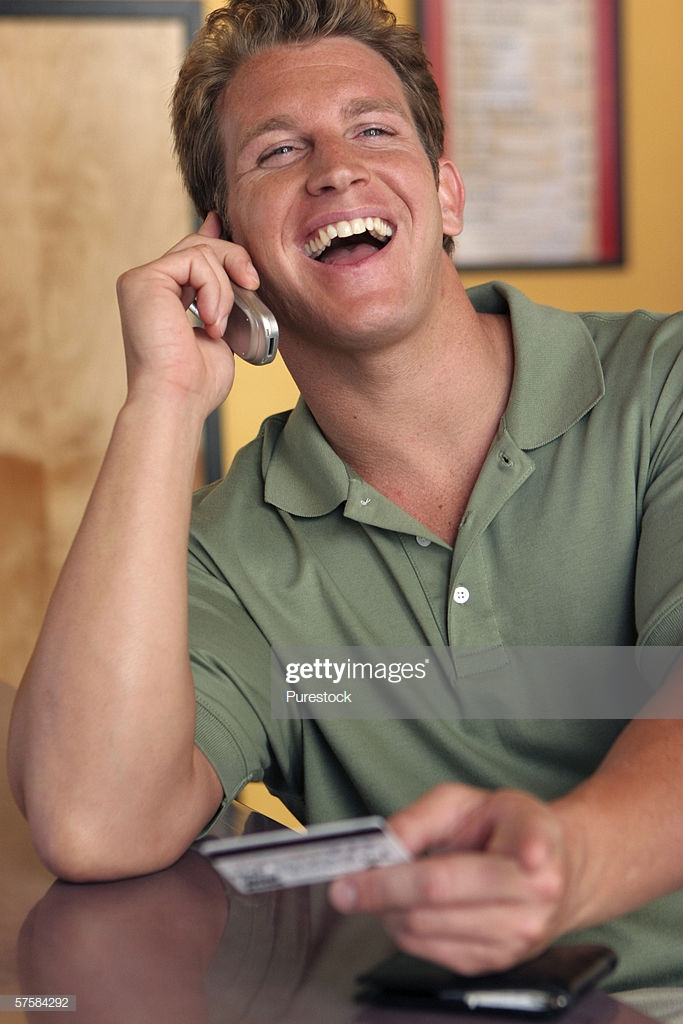phone: (165, 204, 285, 368)
talk: (113, 91, 448, 424)
